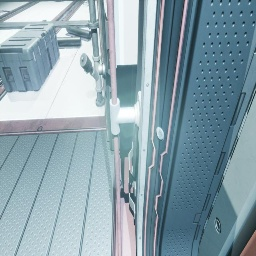SafetySwitchPanel ,: (104, 0, 139, 68)
